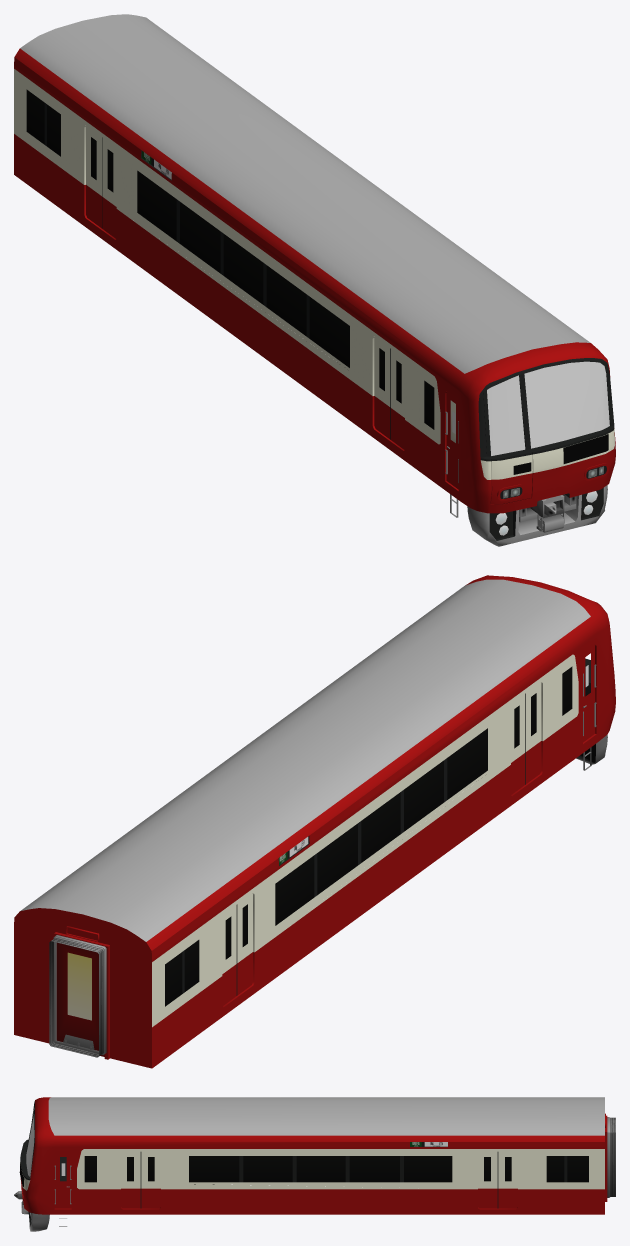
3 views of the same model, one above another, from view 1: azimuth 30°, elevation 25°; view 2: azimuth 150°, elevation 25°; view 3: azimuth 270°, elevation 25° (orthographic). The views are drawn at different scales.
Parts seen in each view (by area): view 1: obj10; view 2: obj10; view 3: obj10.
Part boxes in pixels (x1,y1,x2,y2): obj10: (14,14,615,546); obj10: (14,575,615,1068); obj10: (14,1097,615,1231).
Size of the model in its own units: 6.5 by 7.86 by 39.65.
34 materials, 33 textured.
